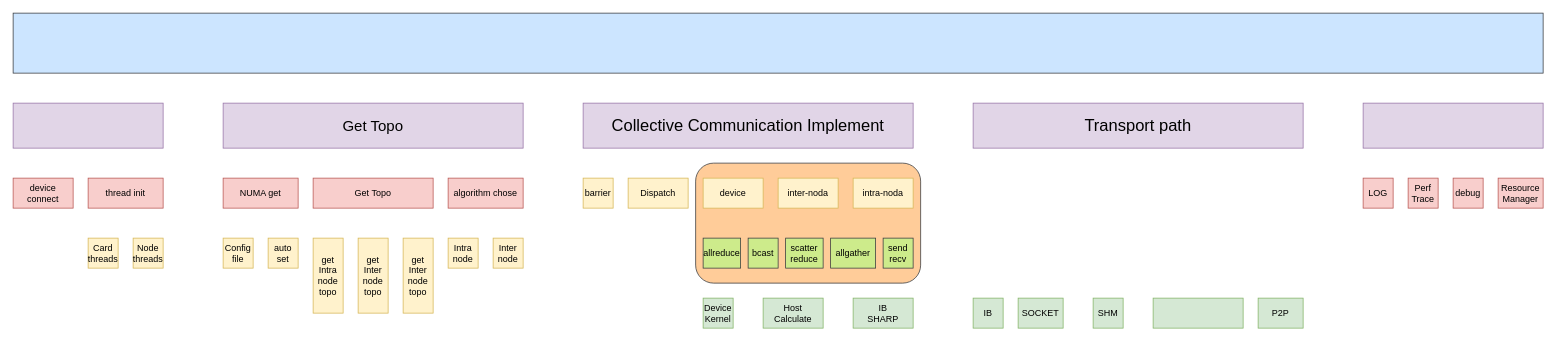
Image size: 1556x341. Some labels were removed from this diagram. The shapes that lost their labels are listed below. From the top down, each one's centre as x and y in pixels, then its label:
At pixel 777 42: "TCCL".
At pixel 87 125: "Init".
At pixel 1452 125: "Tools".
At pixel 1197 312: "SWIB".
